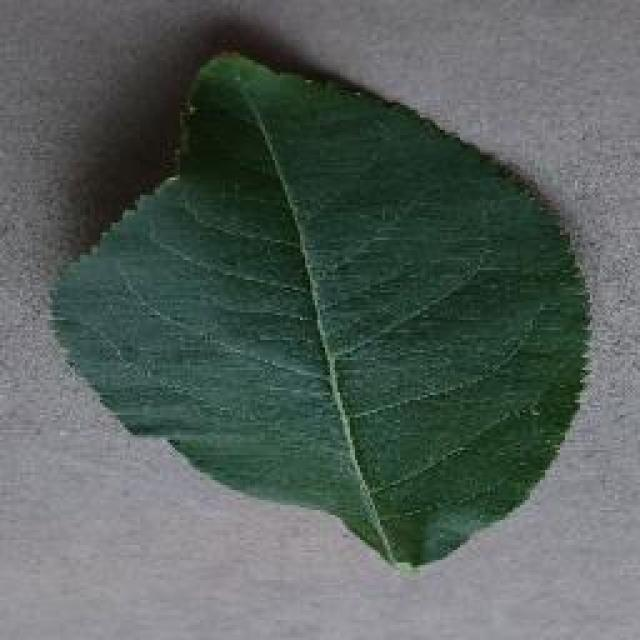apple healthy: (45, 45, 595, 573)
